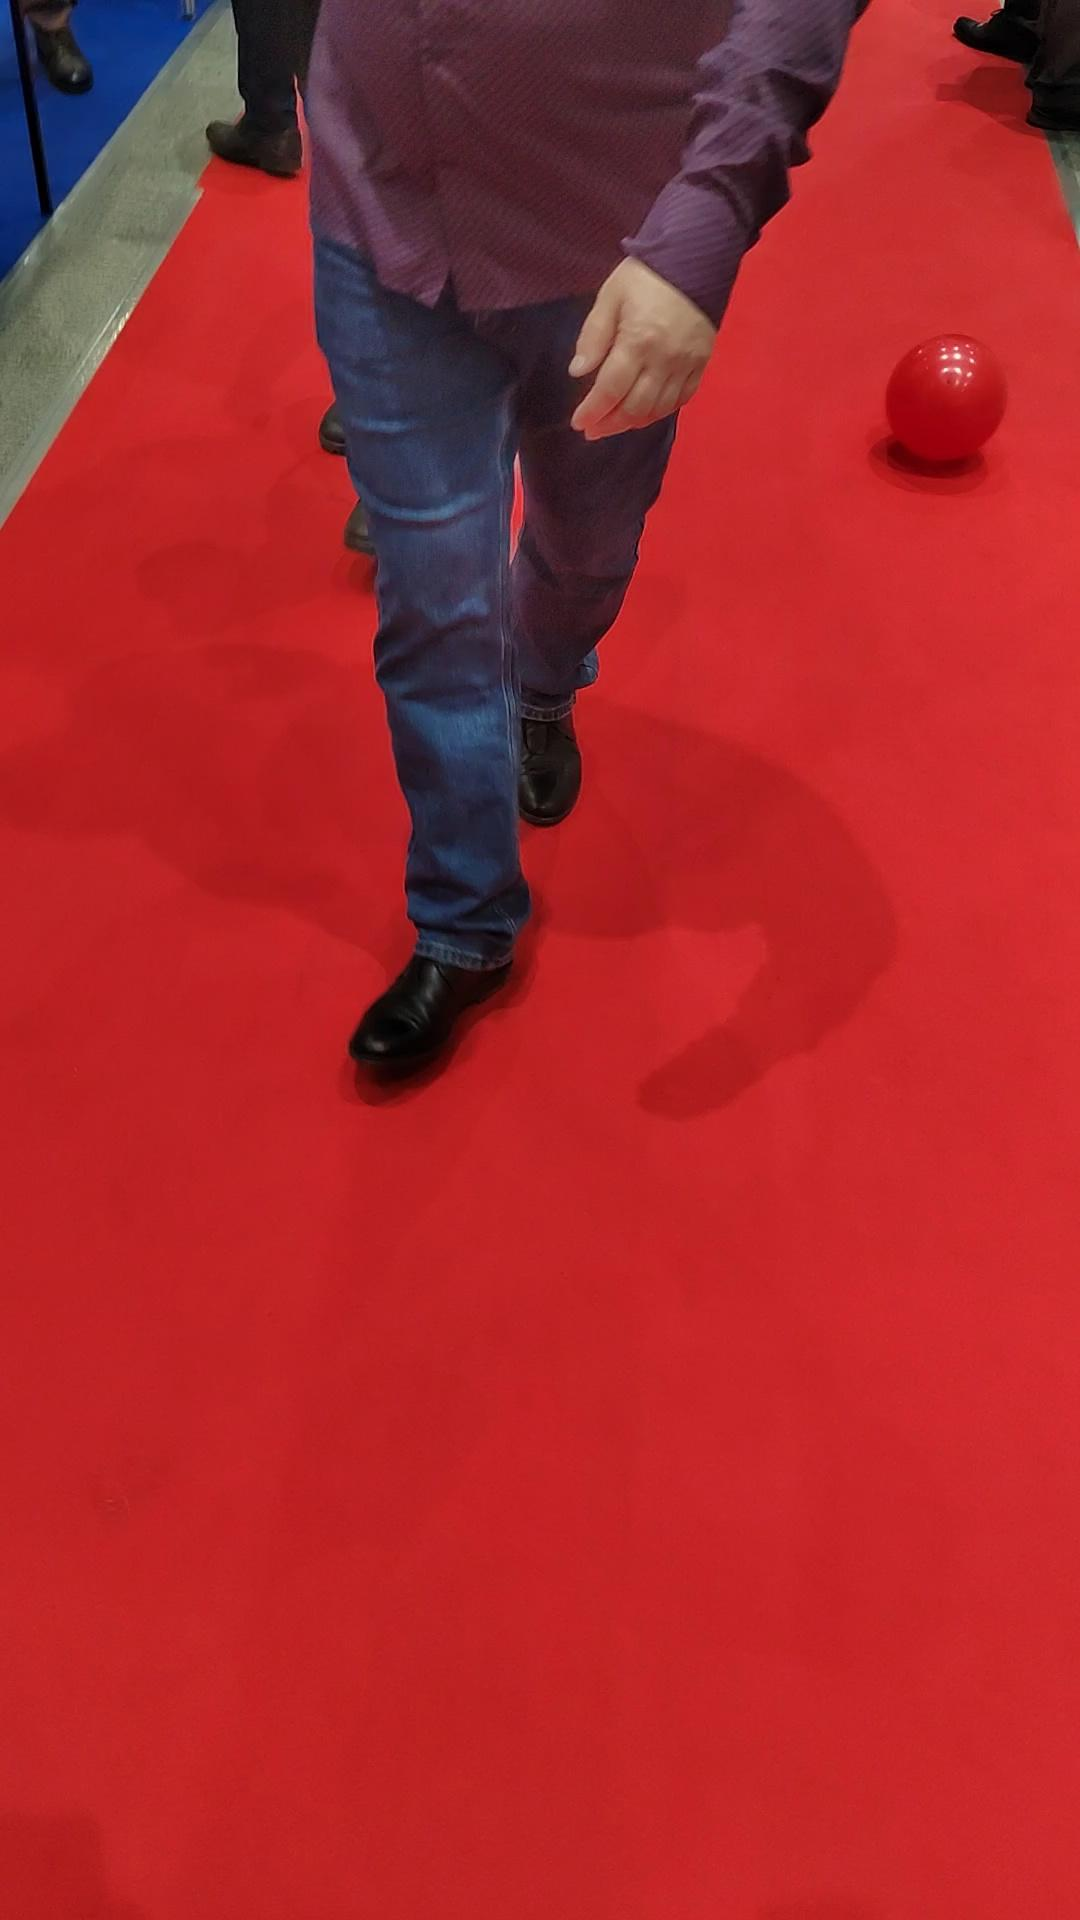red: (884, 334, 1009, 465)
